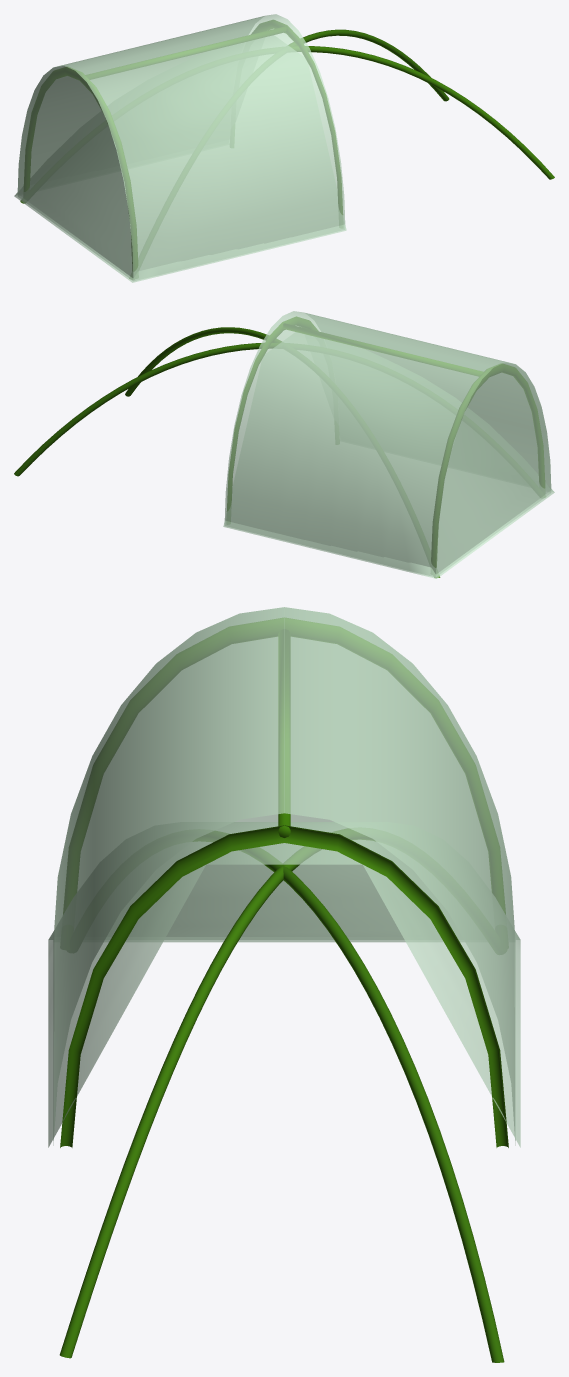
File: Greenhouse.glb
3 renders of one model, top to bottom at view 1: azimuth 30°, elevation 25°; view 2: azimuth 150°, elevation 25°; view 3: azimuth 270°, elevation 25°, orthographic. The views are drawn at different scales.
Parts seen in each view (by area): view 1: Tunnel Half, X Half, Greenhouse Tunnel Stick, Greenhouse X Stick B, Greenhouse Tunnel Stick Middle, Greenhouse Tunnel Stick Top, Greenhouse X Stick A; view 2: Tunnel Half, X Half, Greenhouse Tunnel Stick, Greenhouse X Stick A, Greenhouse Tunnel Stick Middle, Greenhouse Tunnel Stick Top, Greenhouse X Stick B; view 3: Tunnel Half, X Half, Greenhouse Tunnel Stick Middle, Greenhouse Tunnel Stick, Greenhouse X Stick A, Greenhouse X Stick B, Greenhouse Tunnel Stick Top.
Boxes of the visible parts, x1=… form: Tunnel Half: x1=17, y1=14, x2=345, y2=280; X Half: x1=14, y1=36, x2=346, y2=282; Greenhouse Tunnel Stick: x1=24, y1=66, x2=137, y2=271; Greenhouse X Stick B: x1=20, y1=46, x2=554, y2=203; Greenhouse Tunnel Stick Middle: x1=251, y1=20, x2=342, y2=214; Greenhouse Tunnel Stick Top: x1=85, y1=26, x2=286, y2=79; Greenhouse X Stick A: x1=129, y1=29, x2=449, y2=278; Tunnel Half: x1=224, y1=311, x2=551, y2=576; X Half: x1=223, y1=332, x2=554, y2=578; Greenhouse Tunnel Stick: x1=431, y1=363, x2=544, y2=567; Greenhouse X Stick A: x1=14, y1=343, x2=279, y2=476; Greenhouse Tunnel Stick Middle: x1=227, y1=316, x2=317, y2=511; Greenhouse Tunnel Stick Top: x1=283, y1=323, x2=483, y2=376; Greenhouse X Stick B: x1=125, y1=327, x2=440, y2=577; Tunnel Half: x1=53, y1=607, x2=515, y2=1145; X Half: x1=48, y1=822, x2=520, y2=1147; Greenhouse Tunnel Stick Middle: x1=60, y1=825, x2=508, y2=1147; Greenhouse Tunnel Stick: x1=63, y1=617, x2=505, y2=914; Greenhouse X Stick A: x1=192, y1=831, x2=504, y2=1362; Greenhouse X Stick B: x1=59, y1=828, x2=375, y2=1358; Greenhouse Tunnel Stick Top: x1=278, y1=629, x2=290, y2=837.
Size of the model in its own units: 1.92 by 0.7386 by 0.92.
Materials: 2 (1 with a texture image).
